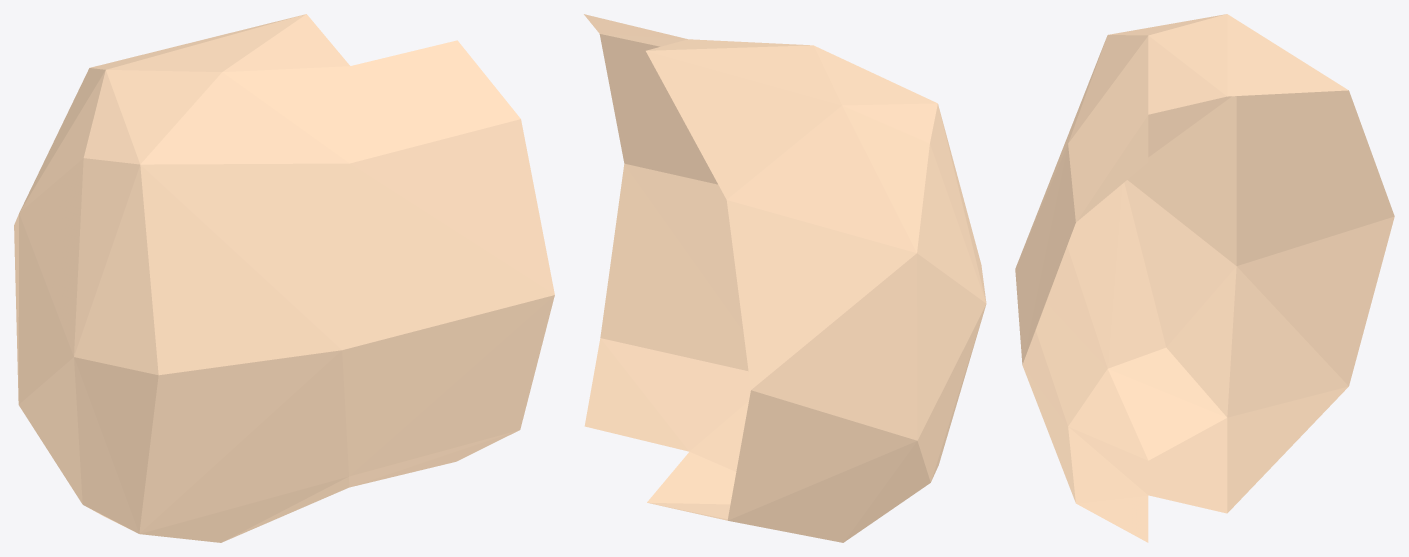
Rendered from head4.glb.
3 renders of one model, left to right at view 1: azimuth 30°, elevation 25°; view 2: azimuth 150°, elevation 25°; view 3: azimuth 270°, elevation 25°, orthographic. The views are drawn at different scales.
Parts seen in each view (by area): view 1: tomodachi-2026-03-06-18-14-20-176.007; view 2: tomodachi-2026-03-06-18-14-20-176.007; view 3: tomodachi-2026-03-06-18-14-20-176.007.
Boxes of the visible parts, <box> form: tomodachi-2026-03-06-18-14-20-176.007: <box>14,14,554,542</box>; tomodachi-2026-03-06-18-14-20-176.007: <box>584,14,986,542</box>; tomodachi-2026-03-06-18-14-20-176.007: <box>1015,14,1394,542</box>.
Bounding box in the file's own units: 1 × 1.06 × 0.8567.
Materials: 1 (1 with a texture image).
